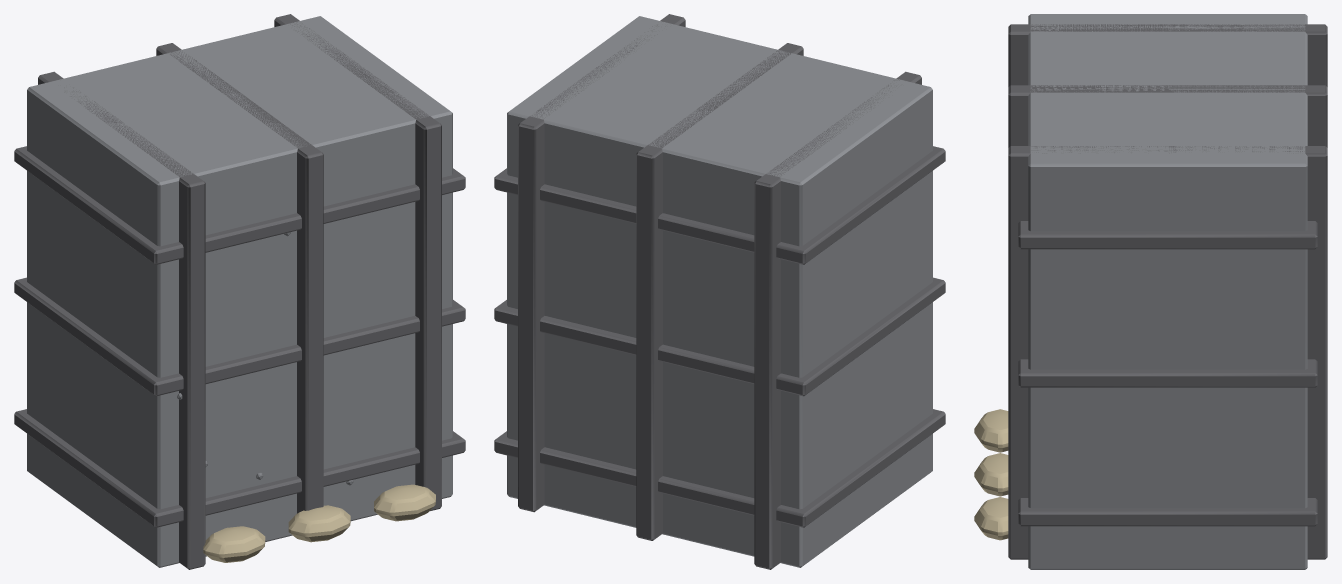
Rendered from wall_steel_b.glb.
3 renders of one model, left to right at view 1: azimuth 30°, elevation 25°; view 2: azimuth 150°, elevation 25°; view 3: azimuth 270°, elevation 25°, orthographic. The views are drawn at different scales.
Visible parts, largest first — view 1: WallSteelB; view 2: WallSteelB; view 3: WallSteelB.
Part boxes in pixels (box(x1,y1,x2,y2)): WallSteelB: box(14, 14, 465, 569); WallSteelB: box(494, 14, 945, 569); WallSteelB: box(974, 14, 1327, 569).
Bounding box in the file's own units: 3.72 × 4.4 × 3.47.
